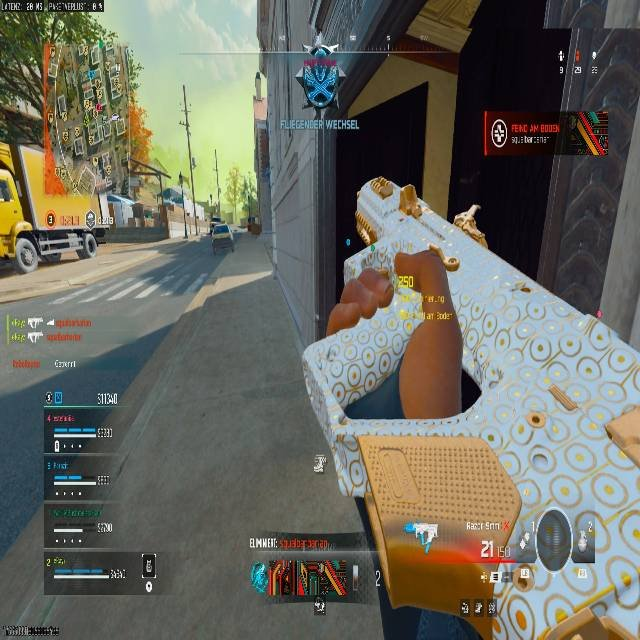head: (354, 176, 404, 237)
player: (72, 225, 99, 259)
